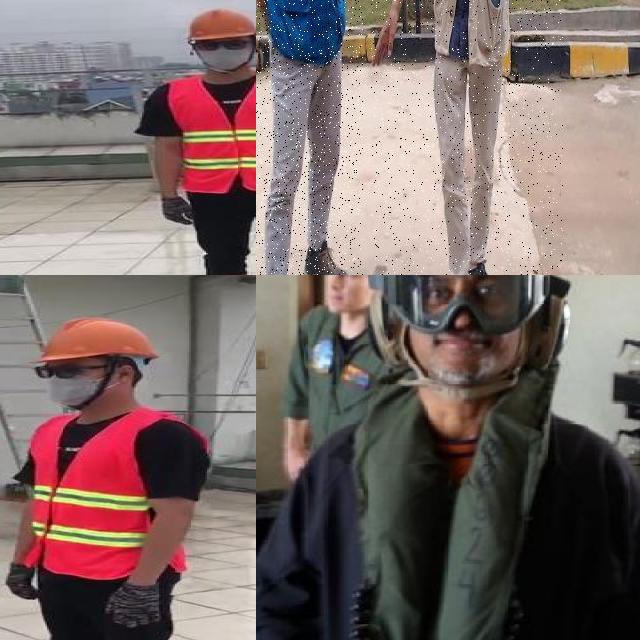boots: (302, 237, 356, 275)
face_mask: (28, 362, 105, 408), (189, 36, 256, 70)
face_nomask: (410, 275, 515, 363), (323, 275, 359, 310)
glasses: (382, 275, 548, 335), (29, 359, 97, 382), (189, 36, 253, 54)
hand_glove: (106, 582, 164, 628), (1, 564, 38, 601), (158, 197, 197, 226)
head_helmet: (28, 315, 162, 365), (184, 8, 256, 41)
person: (263, 275, 640, 640), (0, 314, 214, 640), (370, 0, 537, 275), (134, 6, 256, 275), (256, 0, 362, 275)
vest: (20, 411, 209, 578), (165, 73, 256, 191), (256, 0, 352, 59)
